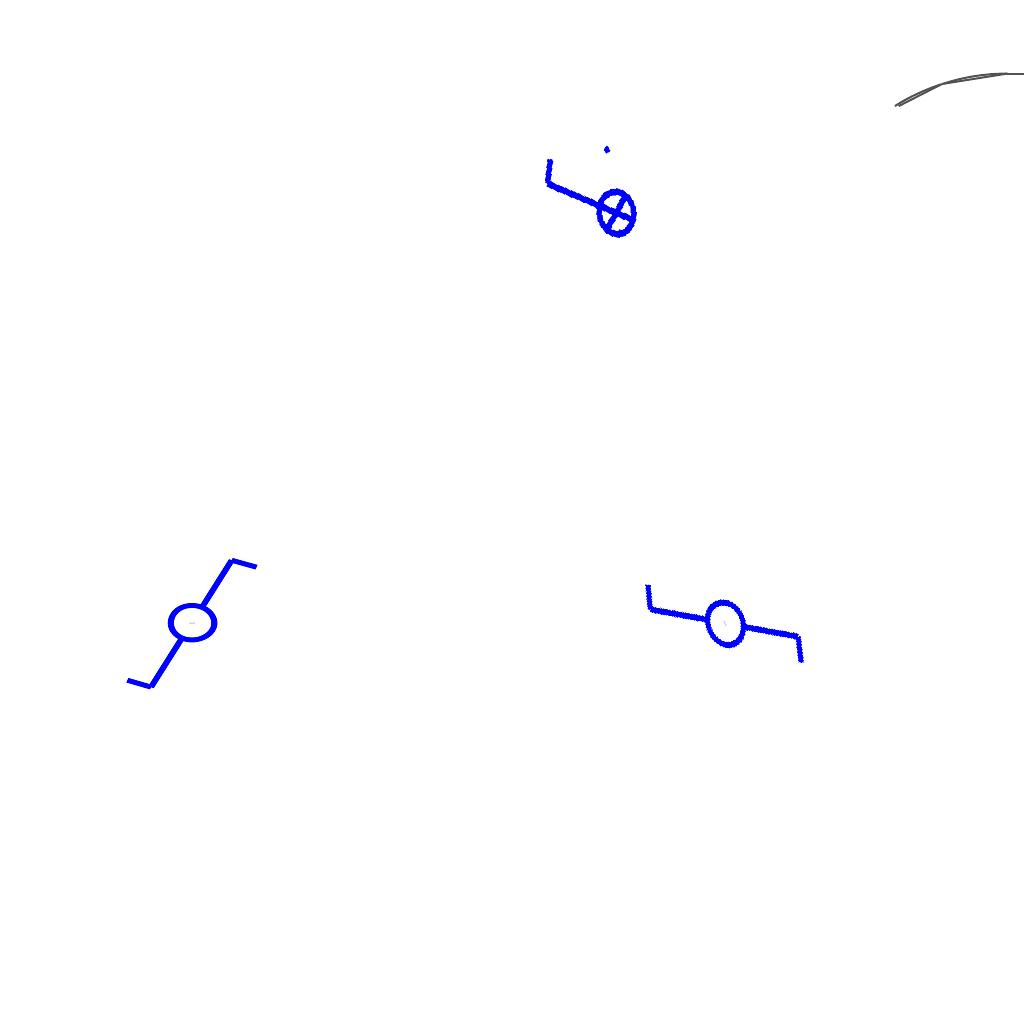Ausschalter_beleuchtet: (531, 137, 645, 263)
Wechselschalter: (630, 532, 823, 732), (122, 553, 279, 697)
